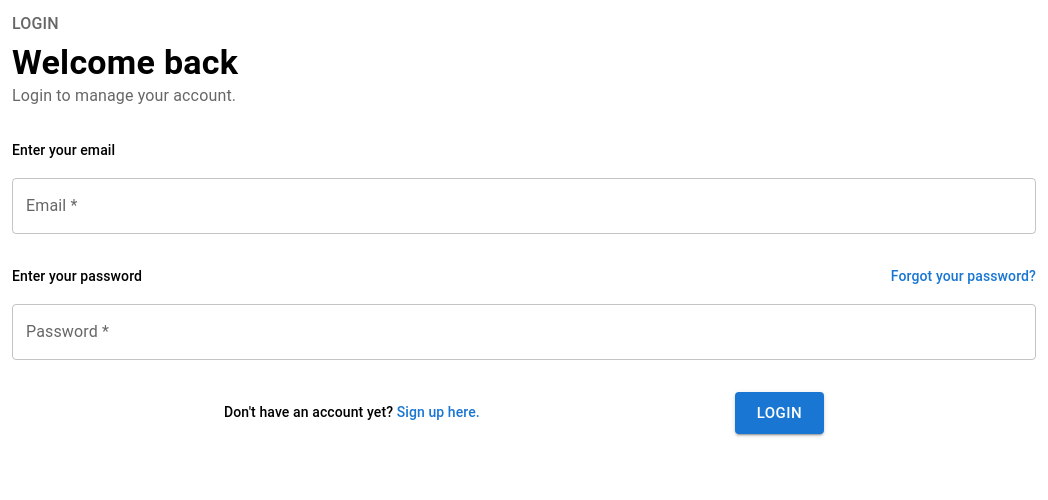
Scenario: Form › validates input fields correctly
The width and height of the screenshot is (1048, 500).
Type "wrongemail" into the field labelled "Email *".
click(524, 206); type("wrongemail")  # box [12, 178, 1036, 234]
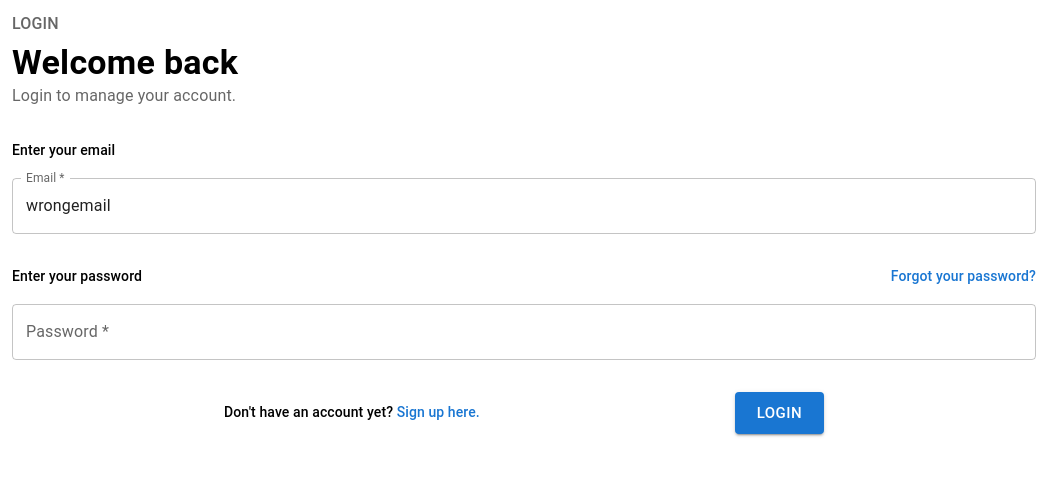
Type "123" into the password field labelled "Password *".
click(524, 332); type("123")  # box [12, 304, 1036, 360]
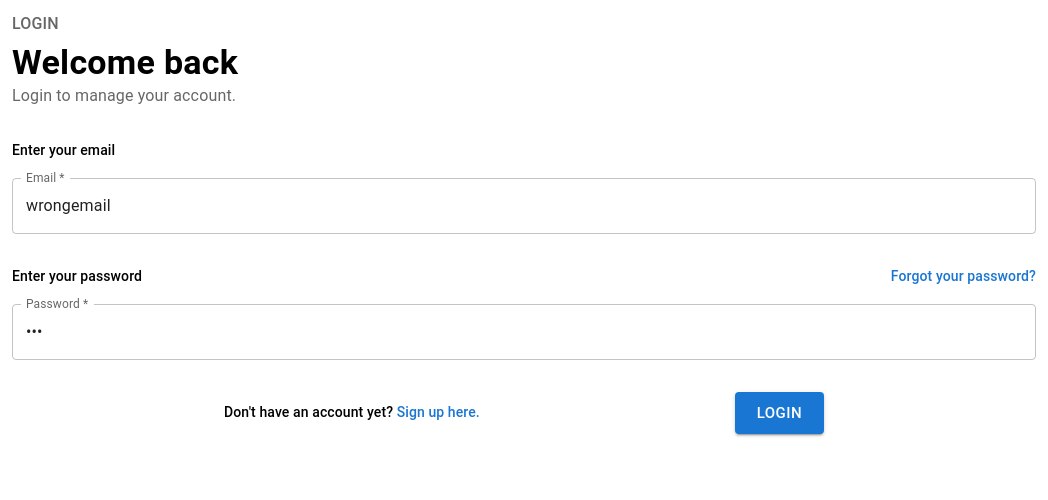
Submit the form from the button "Login", box [735, 392, 824, 434]
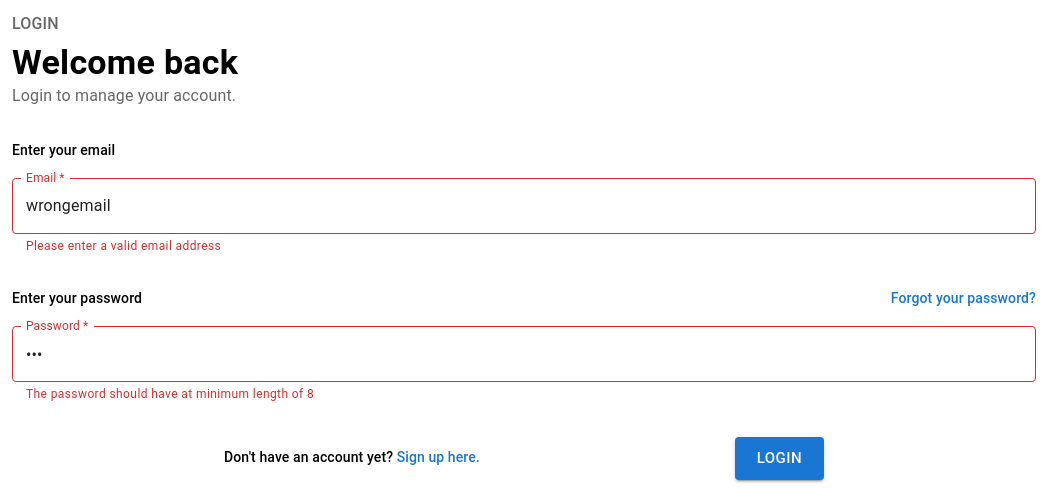
Check: the text "Please enter a valid email address" is shown, box [26, 238, 221, 252]
Check: the text "The password should have at minimum length of 8" is shown, box [26, 387, 314, 401]
